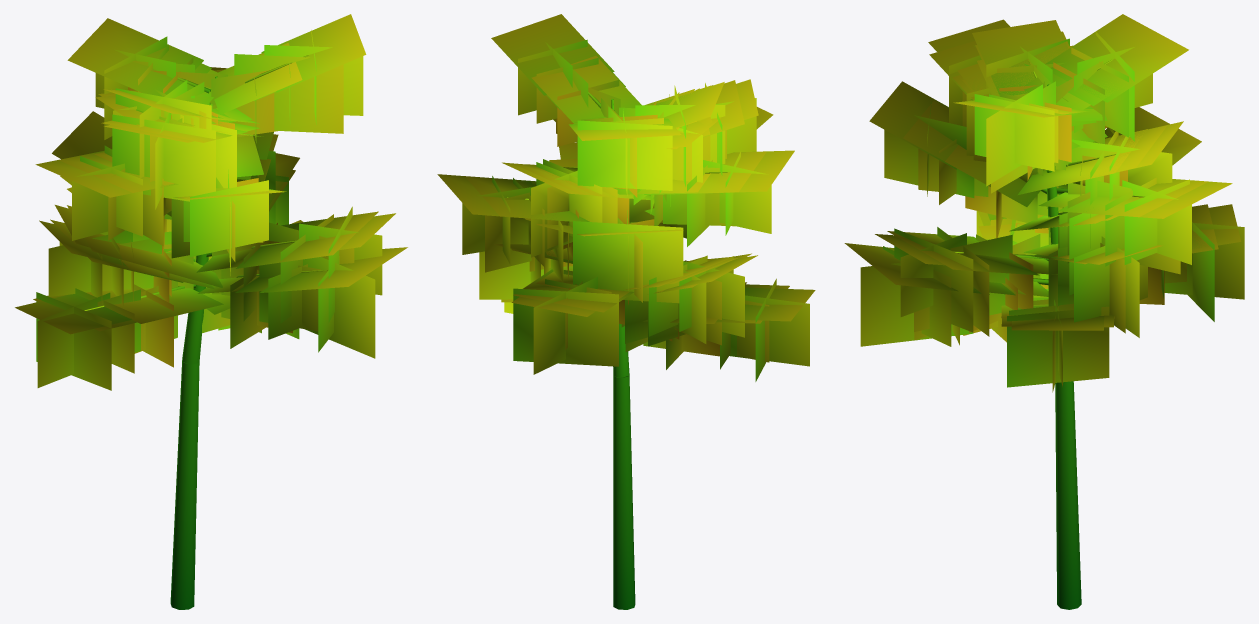
The model's file is SM_Pine_B.fbx.
3 views of the same model, side by side, from view 1: azimuth 30°, elevation 25°; view 2: azimuth 150°, elevation 25°; view 3: azimuth 270°, elevation 25° (orthographic). The views are drawn at different scales.
Parts seen in each view (by area): view 1: SM_Pine_B; view 2: SM_Pine_B; view 3: SM_Pine_B.
Part boxes in pixels (box(x1,y1,x2,y2)): SM_Pine_B: box(15, 14, 407, 609); SM_Pine_B: box(437, 14, 815, 609); SM_Pine_B: box(844, 14, 1244, 609).
Bounding box in the file's own units: 929 × 978 × 1517.
